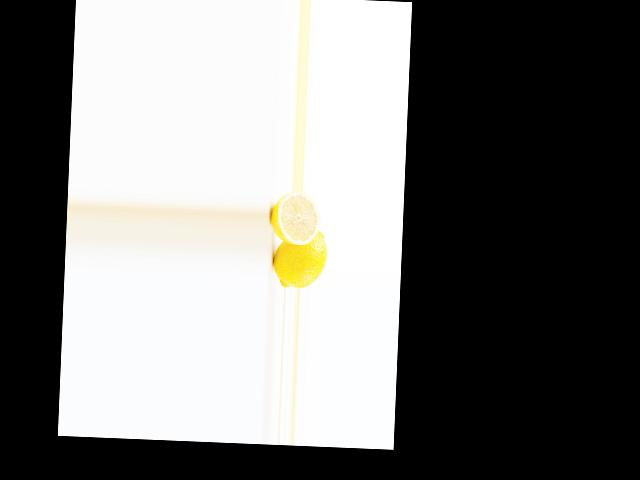lemon: (269, 227, 329, 287)
